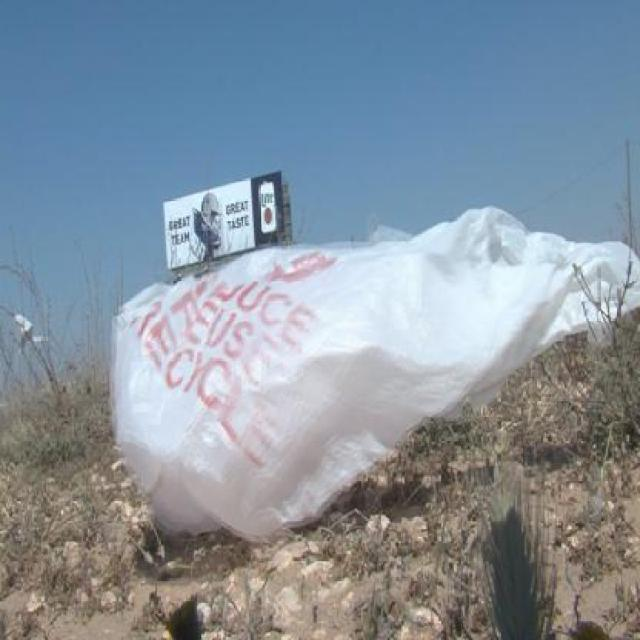plastic bag: (94, 206, 639, 543)
